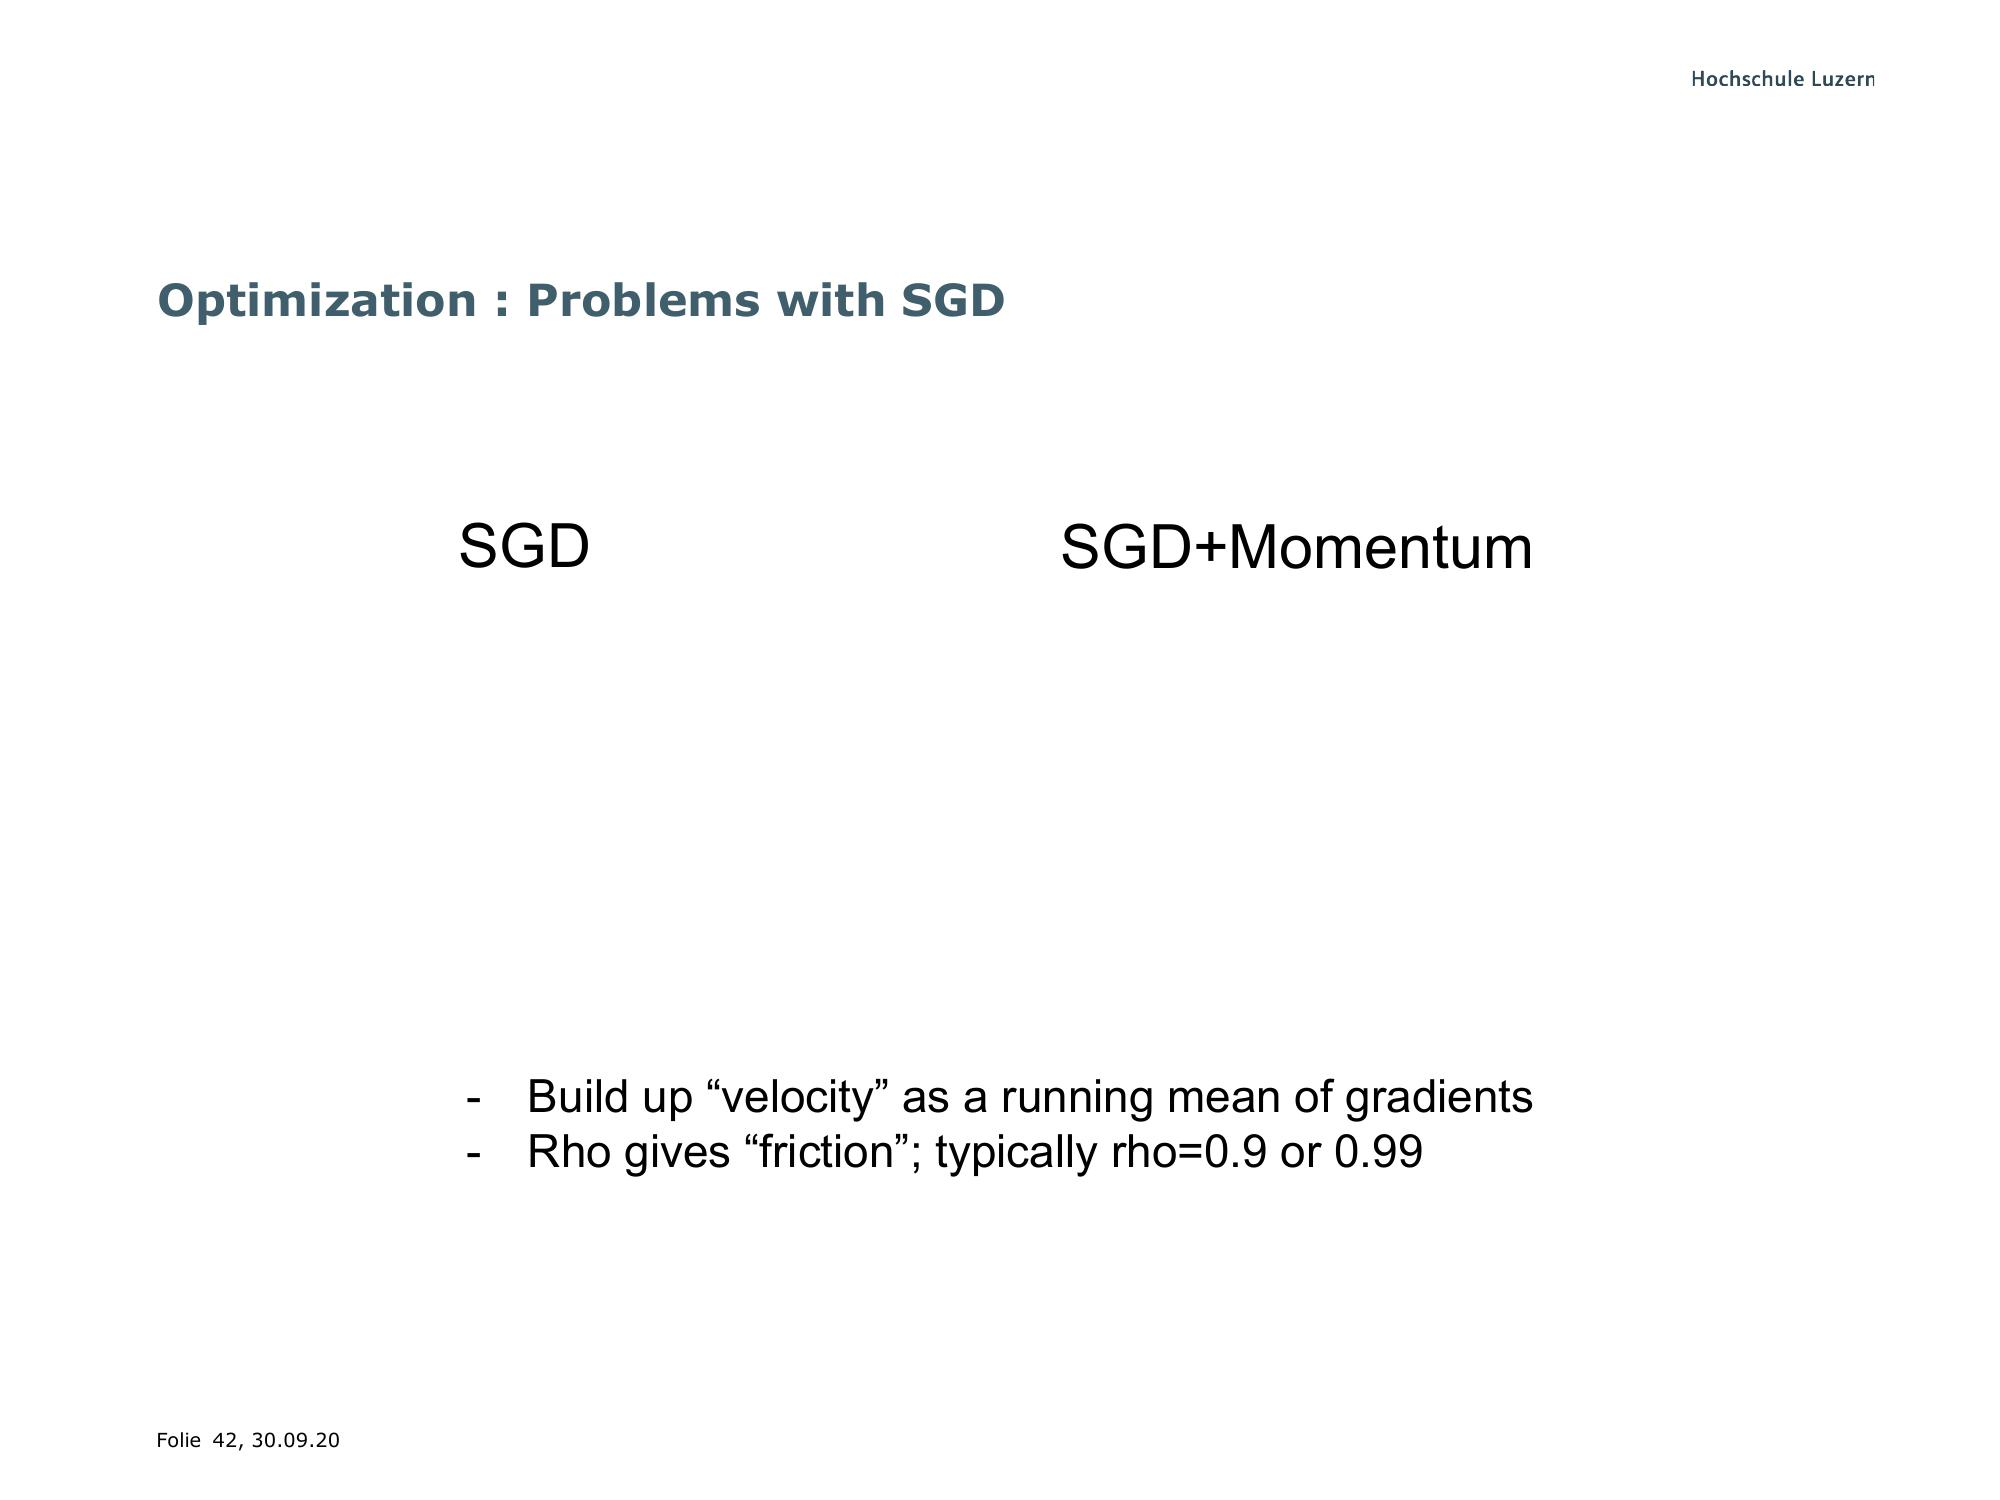Title: (132, 258, 1011, 339)
